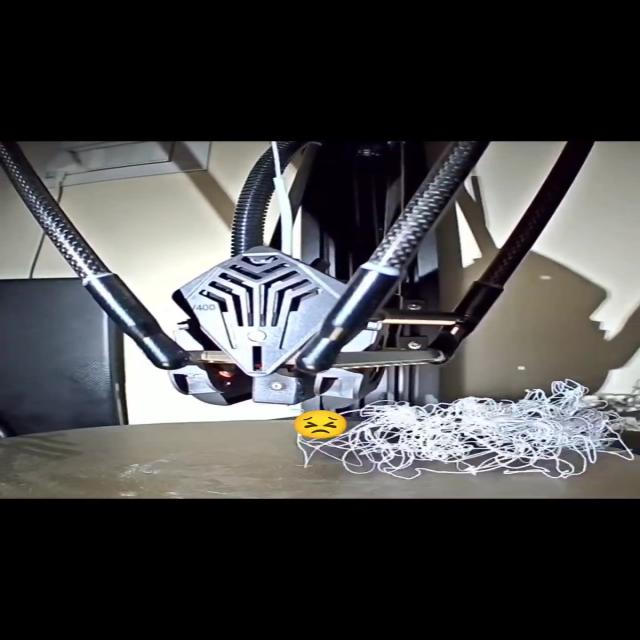spaghetti: (293, 380, 631, 480)
